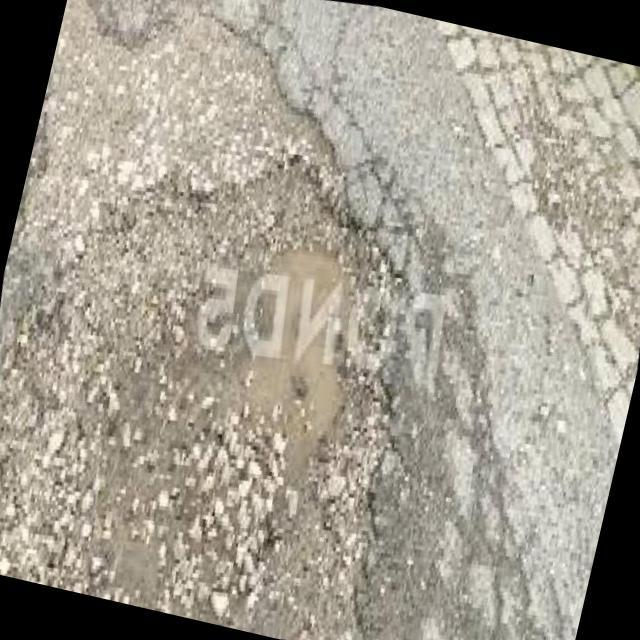pothole: (0, 86, 540, 640)
